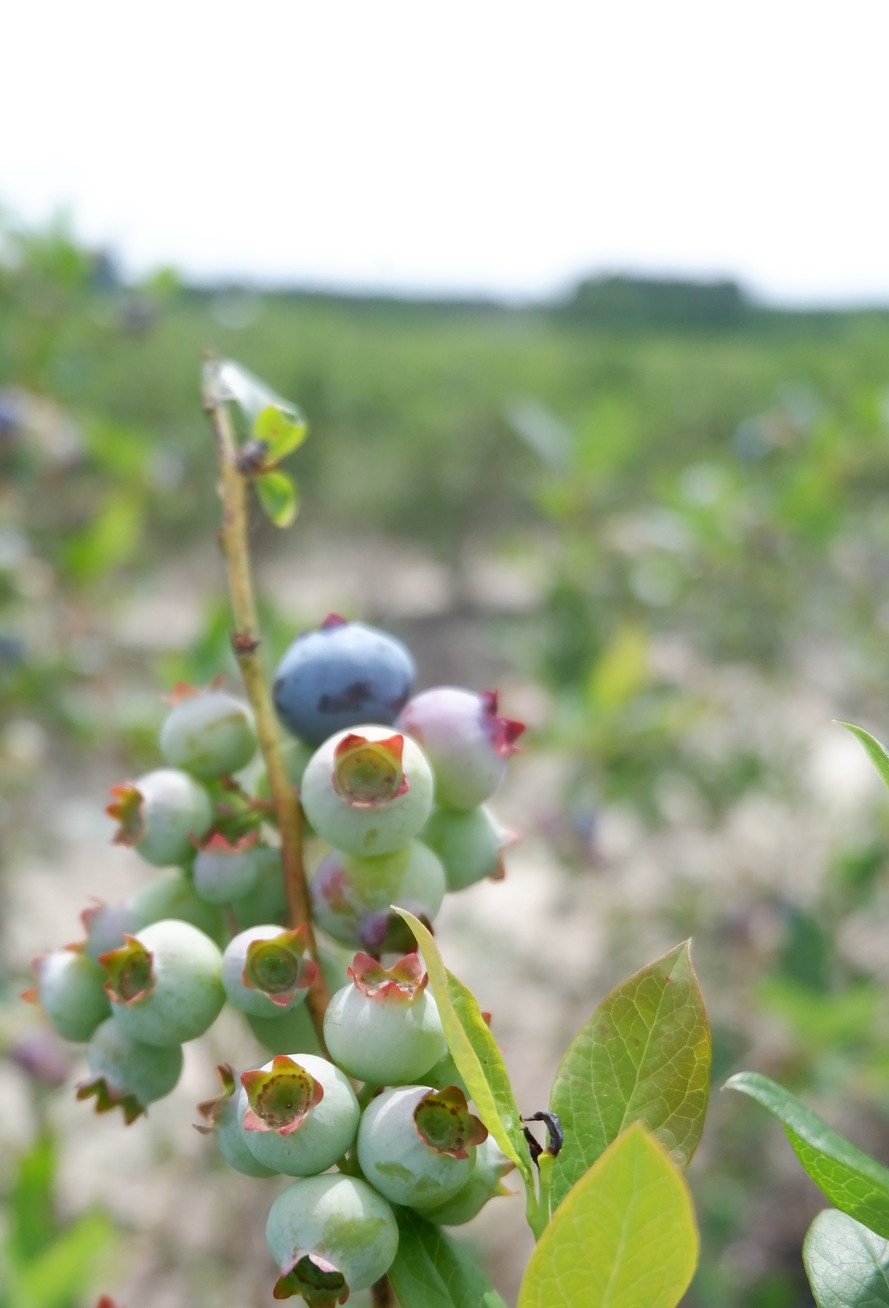Immature: (302, 727, 432, 858), (269, 1174, 394, 1305), (325, 952, 440, 1084), (400, 690, 523, 811), (102, 923, 222, 1045), (358, 1089, 478, 1206), (312, 844, 440, 953), (240, 1059, 356, 1177), (412, 1134, 518, 1227), (83, 1020, 180, 1118), (107, 772, 209, 863), (160, 680, 254, 778), (418, 810, 514, 890), (224, 928, 308, 1015), (25, 951, 107, 1039), (134, 875, 224, 949), (61, 896, 147, 967), (202, 1081, 266, 1175), (259, 739, 318, 839), (194, 831, 258, 905)
Mature: (274, 618, 412, 744)
